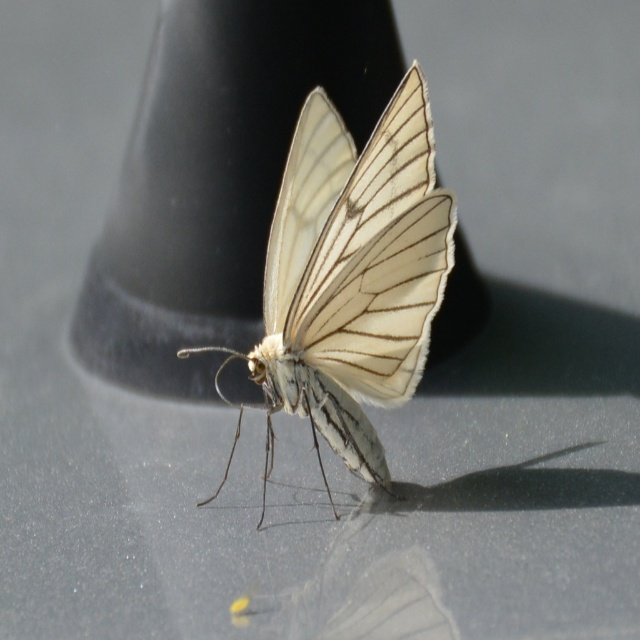Butterfly: (166, 67, 467, 552)
